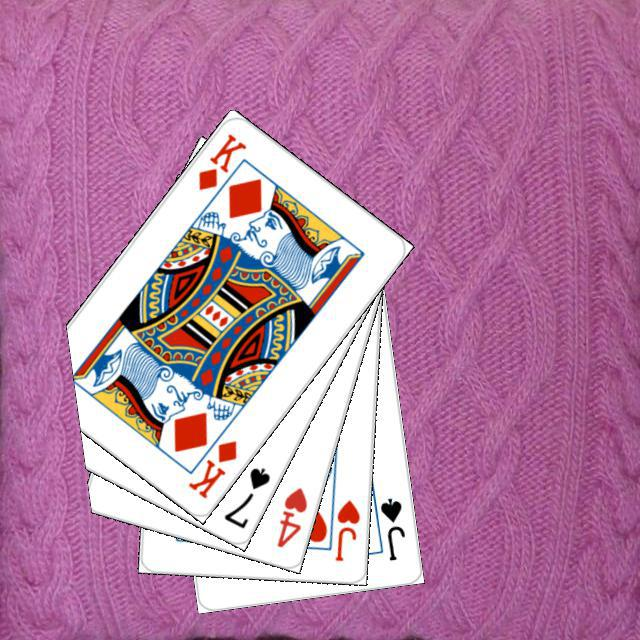4h: (271, 482, 309, 550)
7s: (219, 462, 272, 530)
Jh: (330, 495, 362, 563)
Js: (375, 493, 407, 563)
Kd: (183, 435, 239, 501), (193, 128, 248, 192)
